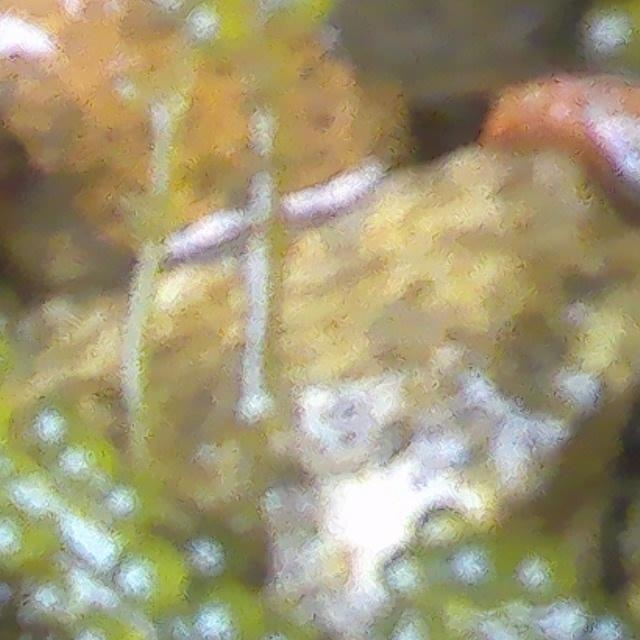SeaGrape: (121, 539, 195, 614), (0, 512, 31, 573)
